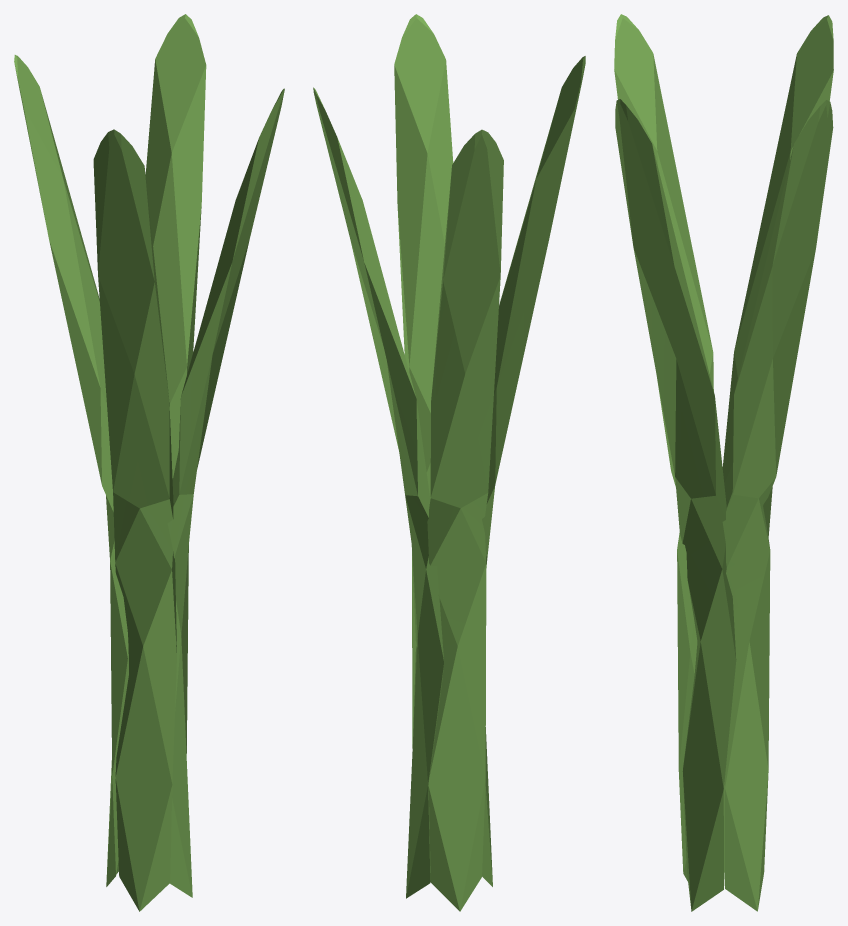
Rendered from Small Tropical Grass.fbx.
The picture shows the model from 3 angles, left to right: view 1: azimuth 30°, elevation 25°; view 2: azimuth 150°, elevation 25°; view 3: azimuth 270°, elevation 25°; orthographic projection. The views are drawn at different scales.
Visible parts, largest first — view 1: Cube.013; view 2: Cube.013; view 3: Cube.013.
Boxes of the visible parts, x1,y1,x2,y2 form: Cube.013: (14,14,284,911); Cube.013: (313,14,585,911); Cube.013: (614,14,833,911).
Bounding box in the file's own units: 9.71 × 42 × 9.94.
